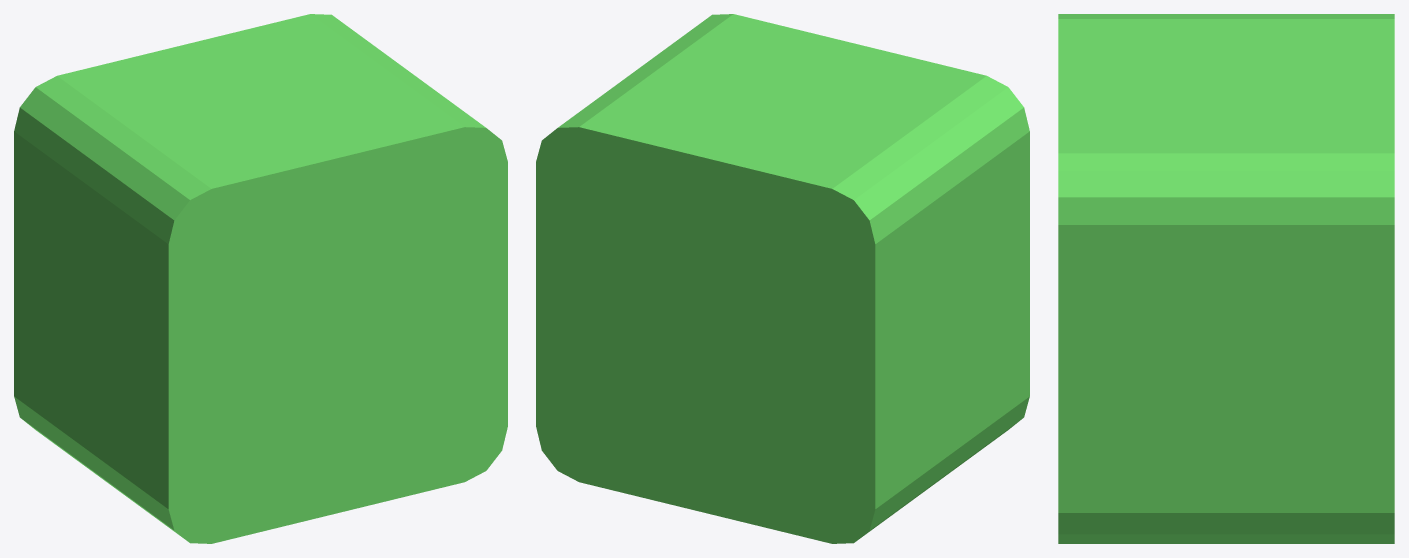
File: cubefull.fbx
3 renders of one model, left to right at view 1: azimuth 30°, elevation 25°; view 2: azimuth 150°, elevation 25°; view 3: azimuth 270°, elevation 25°, orthographic. The views are drawn at different scales.
Visible parts, largest first — view 1: cubefull; view 2: cubefull; view 3: cubefull.
Part boxes in pixels (box(x1,y1,x2,y2)): cubefull: box(14, 14, 507, 543); cubefull: box(536, 14, 1029, 543); cubefull: box(1058, 14, 1394, 543).
Bounding box in the file's own units: 95.08 × 95.08 × 75.02.
